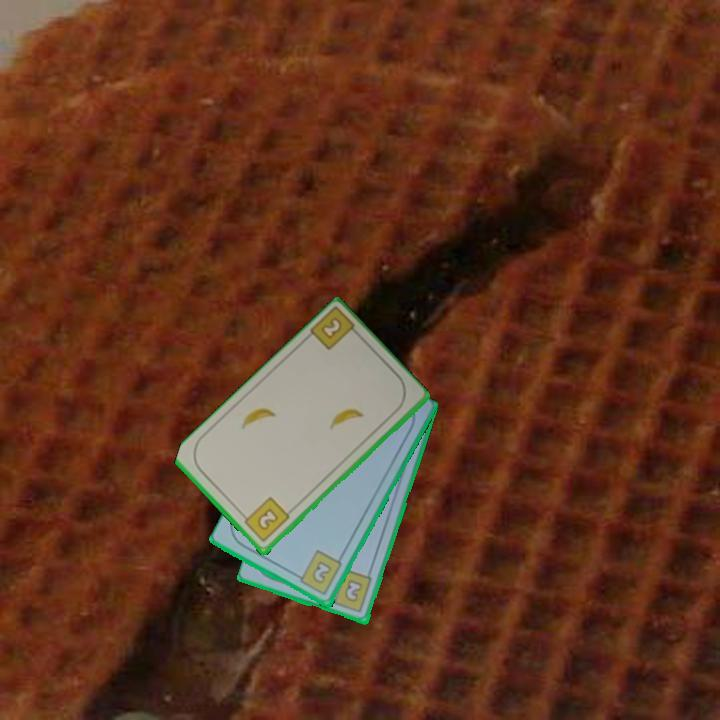2b: (238, 494, 293, 545), (306, 305, 364, 353), (292, 547, 345, 599), (325, 567, 375, 616)
